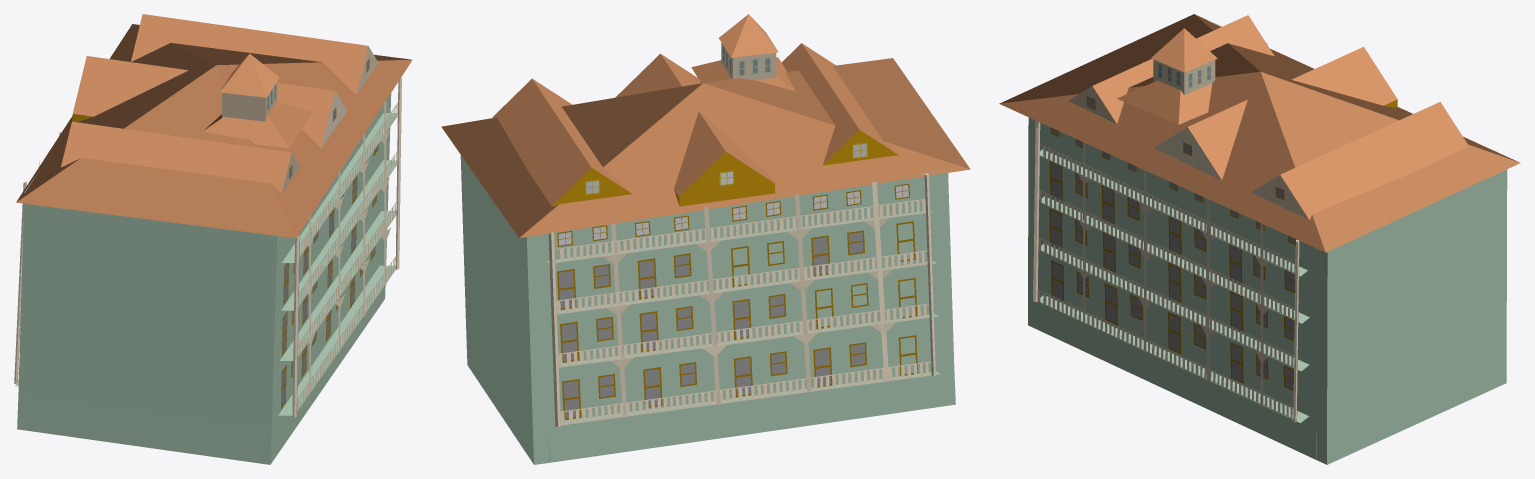
File: CarriageLounge.gltf
3 renders of one model, left to right at view 1: azimuth 30°, elevation 25°; view 2: azimuth 150°, elevation 25°; view 3: azimuth 270°, elevation 25°, orthographic. The views are drawn at different scales.
Visible parts, largest first — view 1: Mesh218 Component_1_1 Model, Mesh186 Group41 Component_1_1 Model, Mesh221 Component_1_1 Model, Mesh220 Component_1_1 Model, Mesh219 Component_1_1 Model, Mesh51 Group7 Component_1_1 Model, Mesh212 Group50 Component_1_1 Model, Mesh211 Group50 Component_1_1 Model, Mesh210 Group50 Component_1_1 Model, Mesh213 Group50 Component_1_1 Model, Mesh73 Group12 Component_1_1 Model, Mesh93 Group20 Component_1_1 Model (+9 smaller); view 2: Mesh218 Component_1_1 Model, Mesh186 Group41 Component_1_1 Model, Mesh220 Component_1_1 Model, Mesh219 Component_1_1 Model, Mesh221 Component_1_1 Model, Mesh30 Group3 Component_1_1 Model, Mesh29 Group3 Component_1_1 Model, Mesh27 Group3 Component_1_1 Model, Mesh28 Group3 Component_1_1 Model, Mesh73 Group12 Component_1_1 Model, Mesh93 Group20 Component_1_1 Model, Mesh17 Group4 Group3 Component_1_1 Model (+24 smaller); view 3: Mesh218 Component_1_1 Model, Mesh186 Group41 Component_1_1 Model, Mesh220 Component_1_1 Model, Mesh219 Component_1_1 Model, Mesh221 Component_1_1 Model, Mesh227 Component_1_1 Model, Mesh231 Component_1_1 Model, Mesh228 Component_1_1 Model, Mesh232 Component_1_1 Model, Mesh51 Group7 Component_1_1 Model, Mesh212 Group50 Component_1_1 Model, Mesh211 Group50 Component_1_1 Model (+7 smaller).
Boxes of the visible parts, x1,y1,x2,y2 form: Mesh218 Component_1_1 Model: (17,93,391,464); Mesh186 Group41 Component_1_1 Model: (16,24,412,238); Mesh221 Component_1_1 Model: (61,121,300,193); Mesh220 Component_1_1 Model: (131,14,378,95); Mesh219 Component_1_1 Model: (72,56,347,148); Mesh51 Group7 Component_1_1 Model: (203,101,313,148); Mesh212 Group50 Component_1_1 Model: (278,265,395,415); Mesh211 Group50 Component_1_1 Model: (280,211,396,360); Mesh210 Group50 Component_1_1 Model: (281,160,397,310); Mesh213 Group50 Component_1_1 Model: (282,113,397,262); Mesh73 Group12 Component_1_1 Model: (220,53,279,97); Mesh93 Group20 Component_1_1 Model: (222,82,277,121); Mesh218 Component_1_1 Model: (460,155,955,464); Mesh186 Group41 Component_1_1 Model: (441,58,970,237); Mesh220 Component_1_1 Model: (492,78,631,206); Mesh219 Component_1_1 Model: (615,53,775,206); Mesh221 Component_1_1 Model: (781,43,897,165); Mesh30 Group3 Component_1_1 Model: (560,361,931,425); Mesh29 Group3 Component_1_1 Model: (555,199,925,262); Mesh27 Group3 Component_1_1 Model: (556,250,927,314); Mesh28 Group3 Component_1_1 Model: (558,303,929,367); Mesh73 Group12 Component_1_1 Model: (719,14,778,57); Mesh93 Group20 Component_1_1 Model: (721,43,776,80); Mesh17 Group4 Group3 Component_1_1 Model: (548,233,560,426); Mesh218 Component_1_1 Model: (1028,20,1507,464); Mesh186 Group41 Component_1_1 Model: (999,14,1520,252); Mesh220 Component_1_1 Model: (1251,101,1468,219); Mesh219 Component_1_1 Model: (1154,46,1397,180); Mesh221 Component_1_1 Model: (1068,15,1274,123); Mesh227 Component_1_1 Model: (1038,237,1297,368); Mesh231 Component_1_1 Model: (1037,289,1297,420); Mesh228 Component_1_1 Model: (1039,143,1295,273); Mesh232 Component_1_1 Model: (1039,190,1298,321); Mesh51 Group7 Component_1_1 Model: (1117,80,1212,124); Mesh212 Group50 Component_1_1 Model: (1040,295,1308,422); Mesh211 Group50 Component_1_1 Model: (1041,244,1309,371).
Bounding box in the file's own units: 2345 × 1688 × 2361.
